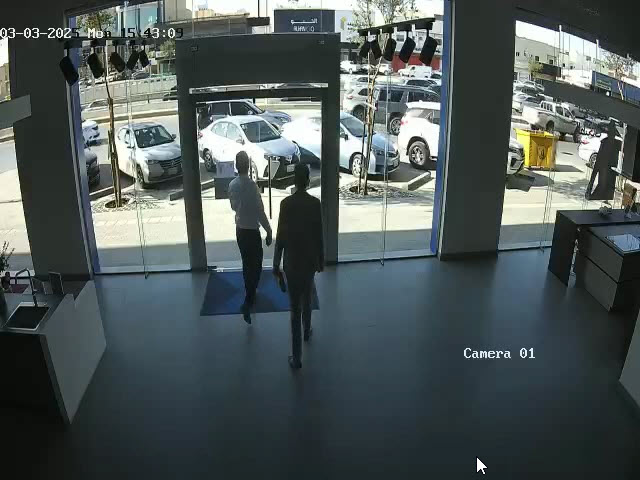employee: (272, 163, 325, 370)
male: (228, 150, 273, 325)
